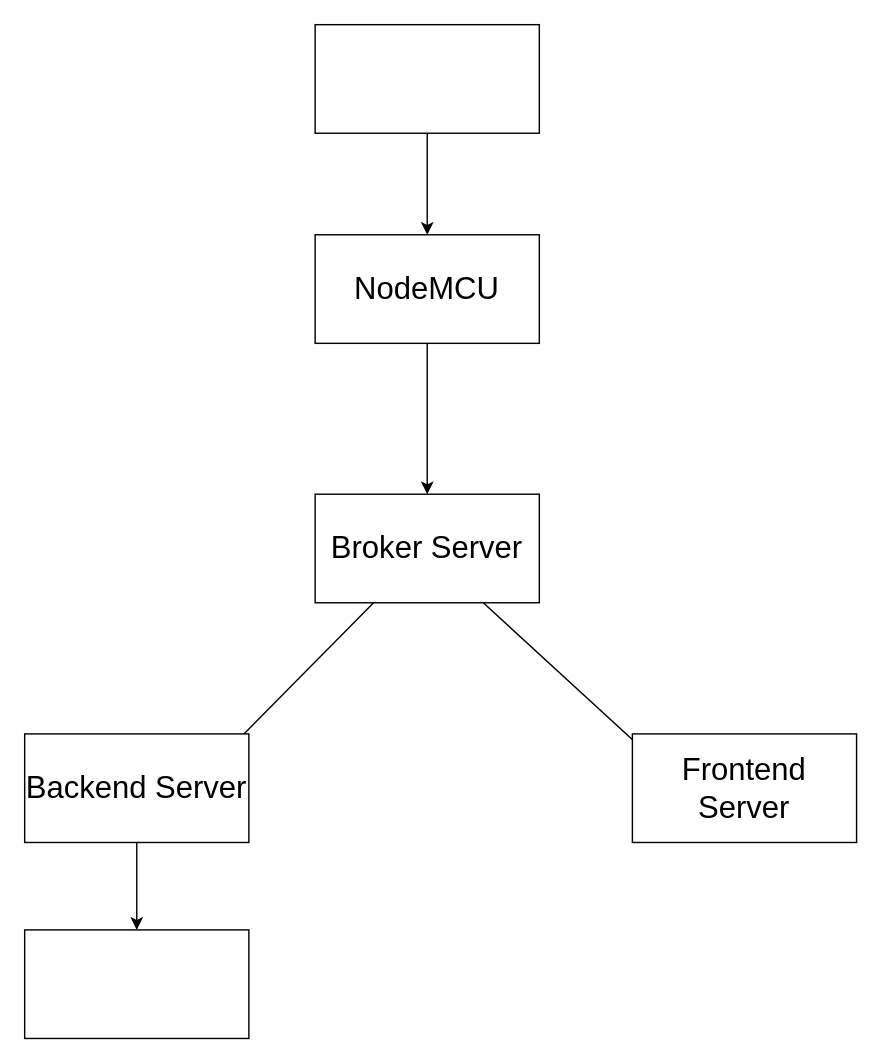
Some shapes in this 881 by 1063 pixel diagram are drawn without their labels. The shapes that lost their labels are listed below. From the top down, each one's centre as x and y in pixels, then its label:
pixel 426 78: Thiết bị cảm biến
pixel 136 983: MongoDB
